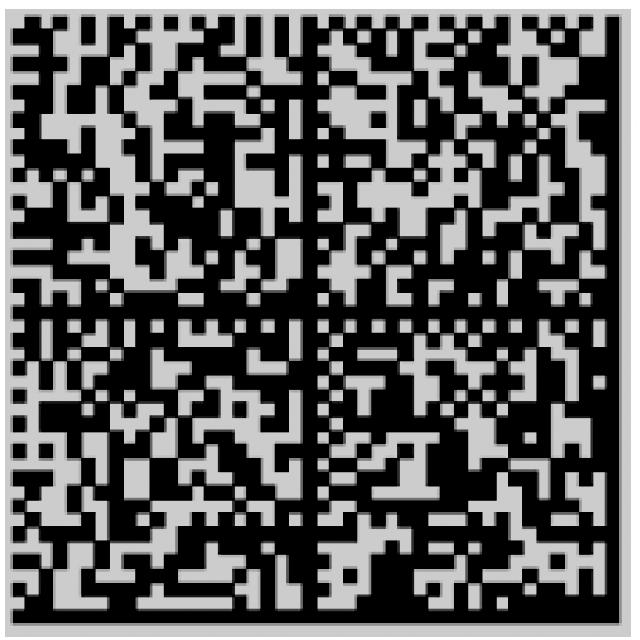DataMatrix: (6, 9, 632, 637)
